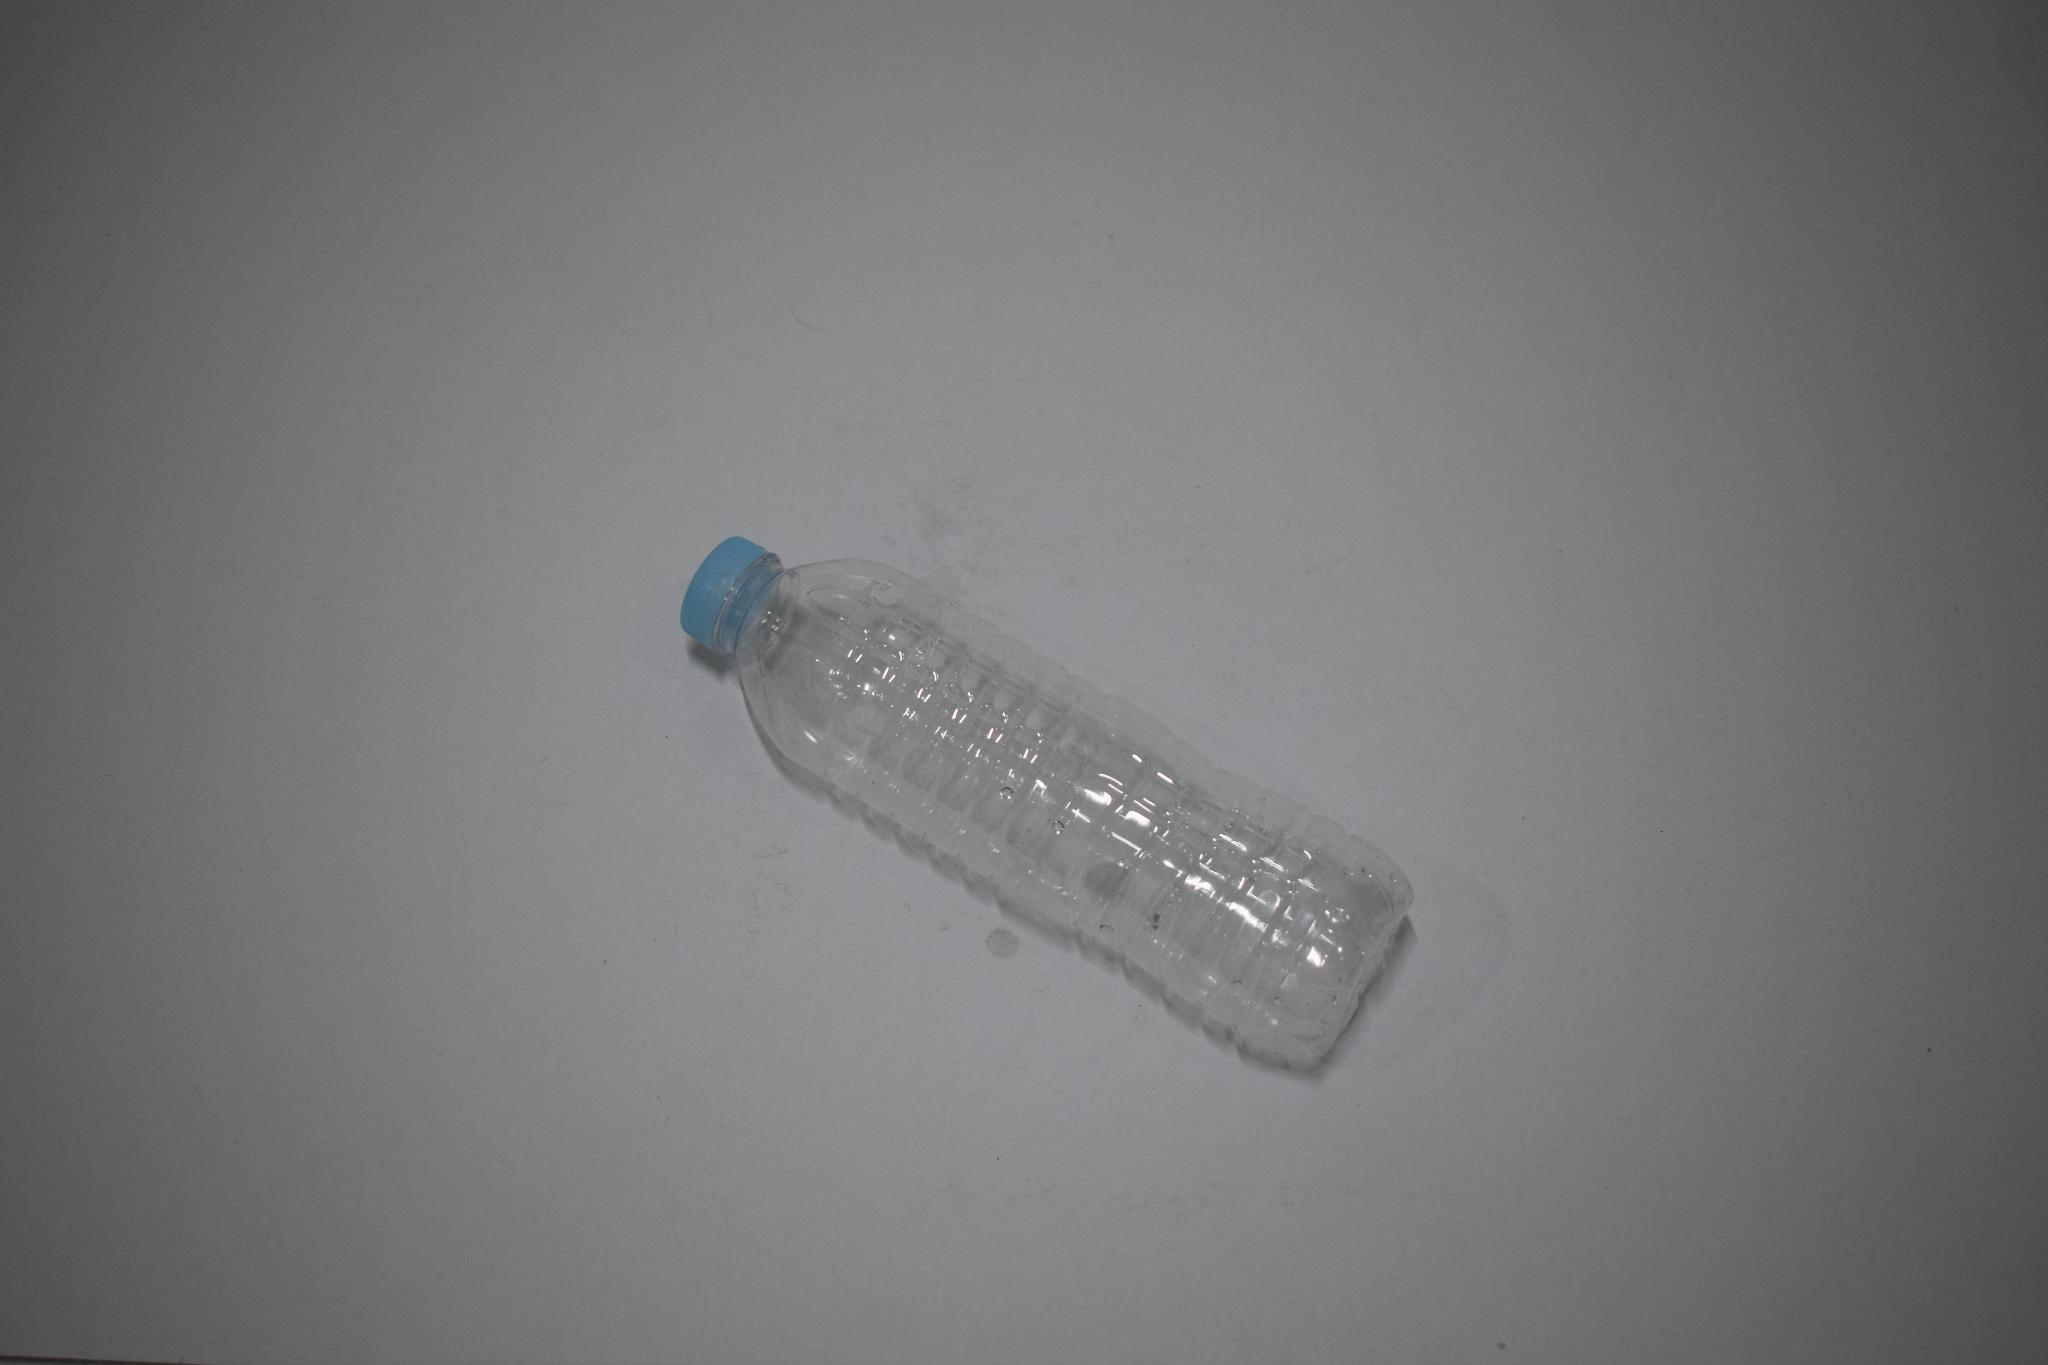bottle: (678, 530, 1416, 1085)
